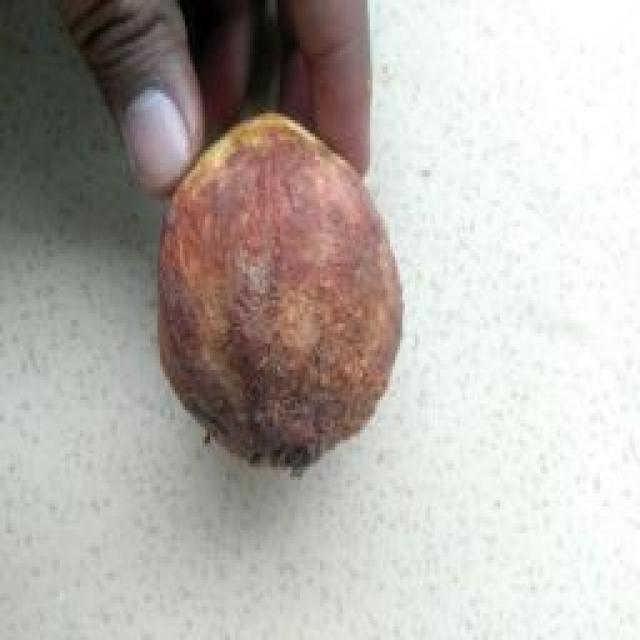Bad_Guava: (160, 113, 401, 468)
